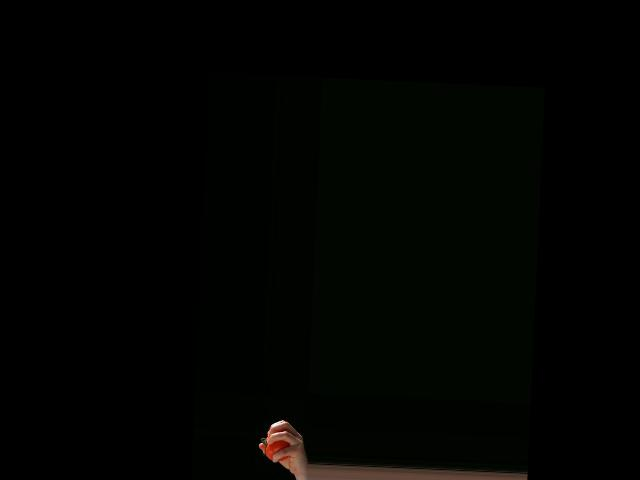tomato: (265, 436, 291, 462)
